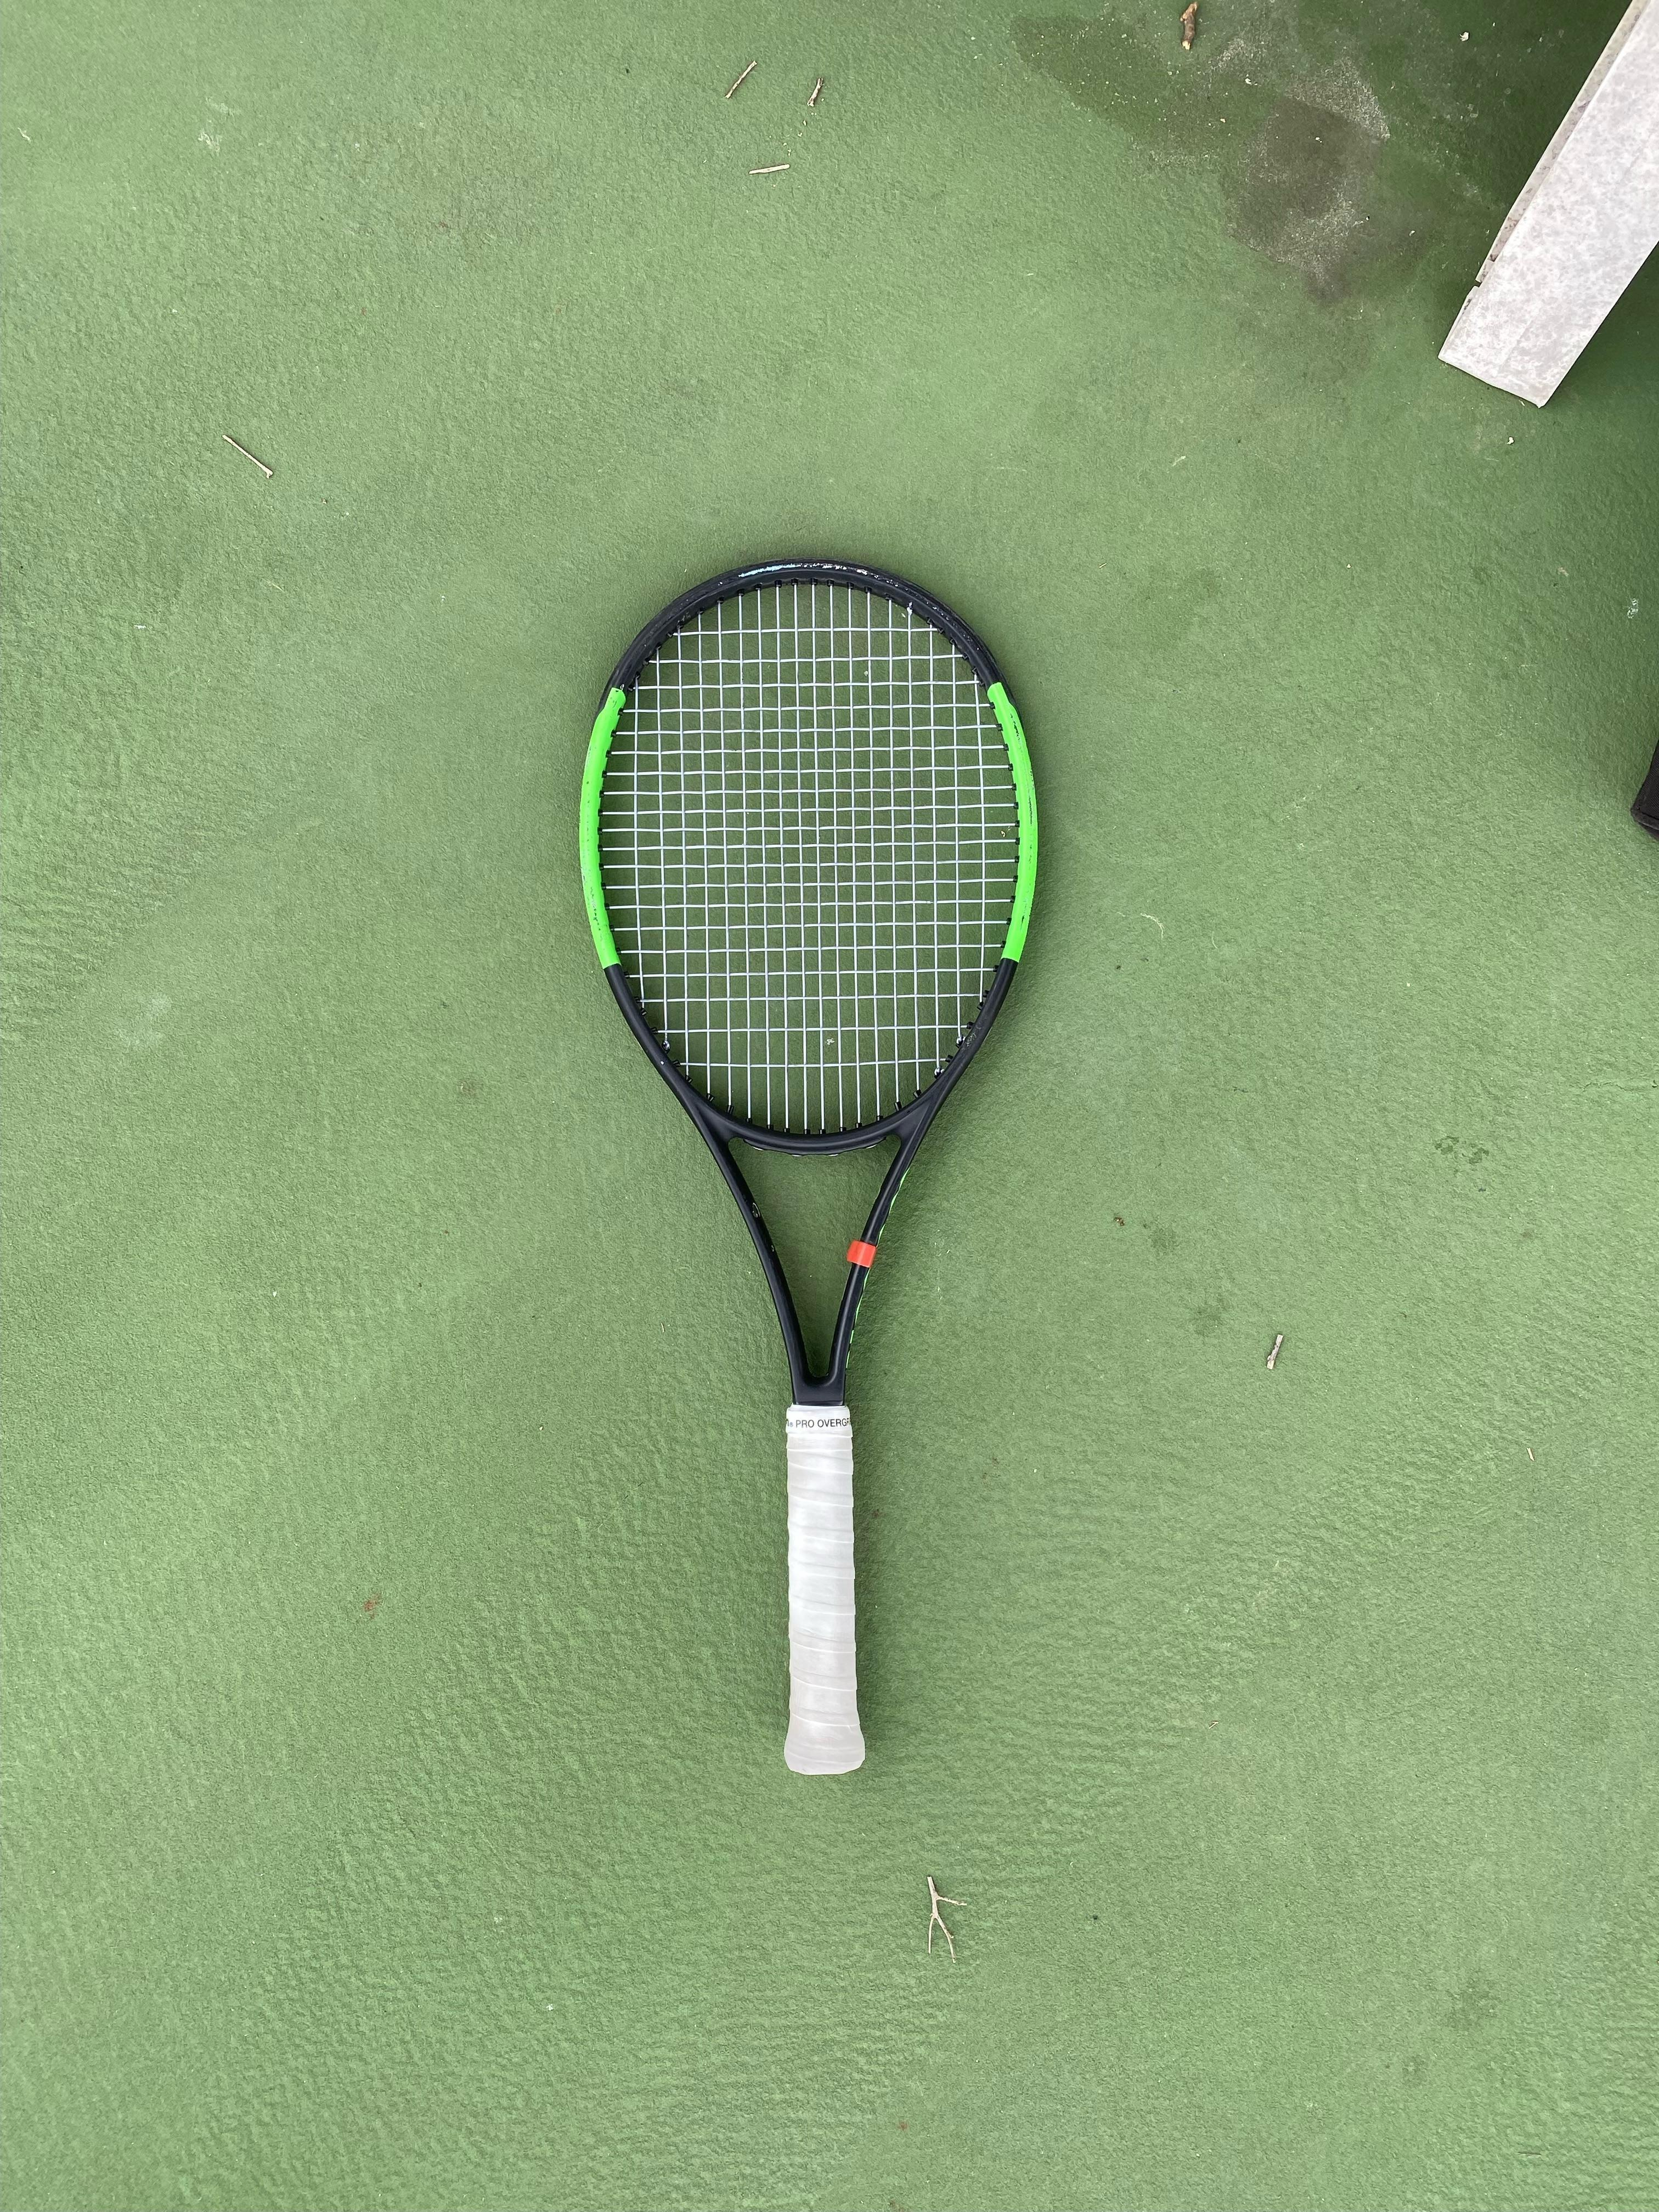Tennis-Racket: (579, 561, 1037, 1775)
